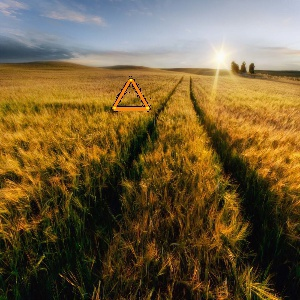triangle: (110, 76, 154, 113)
